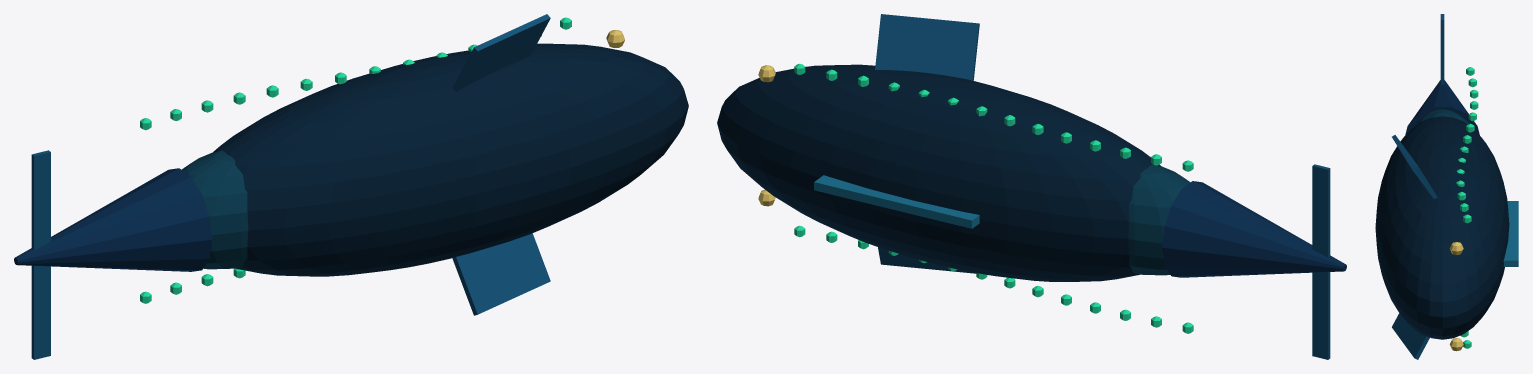
The model's file is void_whale.glb.
3 views of the same model, side by side, from view 1: azimuth 30°, elevation 25°; view 2: azimuth 150°, elevation 25°; view 3: azimuth 270°, elevation 25° (orthographic). The views are drawn at different scales.
Parts seen in each view (by area): view 1: void_whale; view 2: void_whale; view 3: void_whale.
Boxes of the visible parts, box(x1,y1,x2,y2) form: void_whale: box(14, 14, 688, 359); void_whale: box(717, 14, 1346, 359); void_whale: box(1375, 14, 1518, 359).
Bounding box in the file's own units: 1.84 × 0.7056 × 0.4715.
